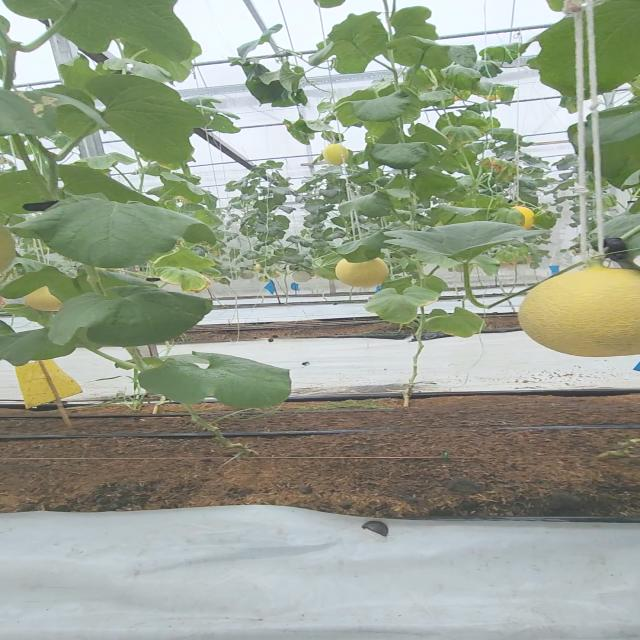Front-melon: (525, 268, 640, 355)
Rear-melon: (334, 263, 391, 288)
